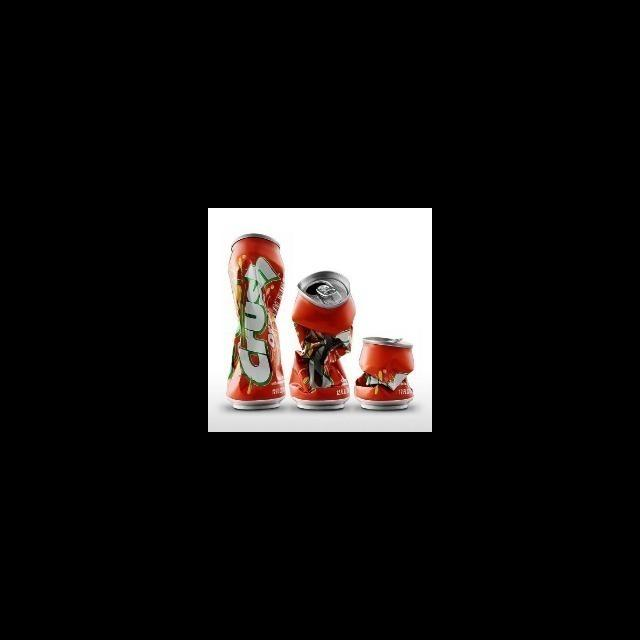metal: (221, 228, 289, 414), (289, 260, 358, 415), (352, 329, 420, 416)
